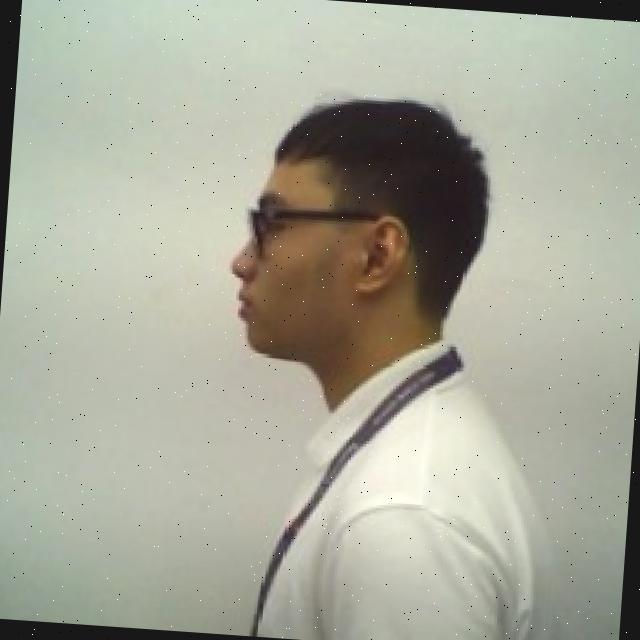no_gloves: (236, 75, 508, 234)
no_hairnet: (214, 208, 424, 376)
